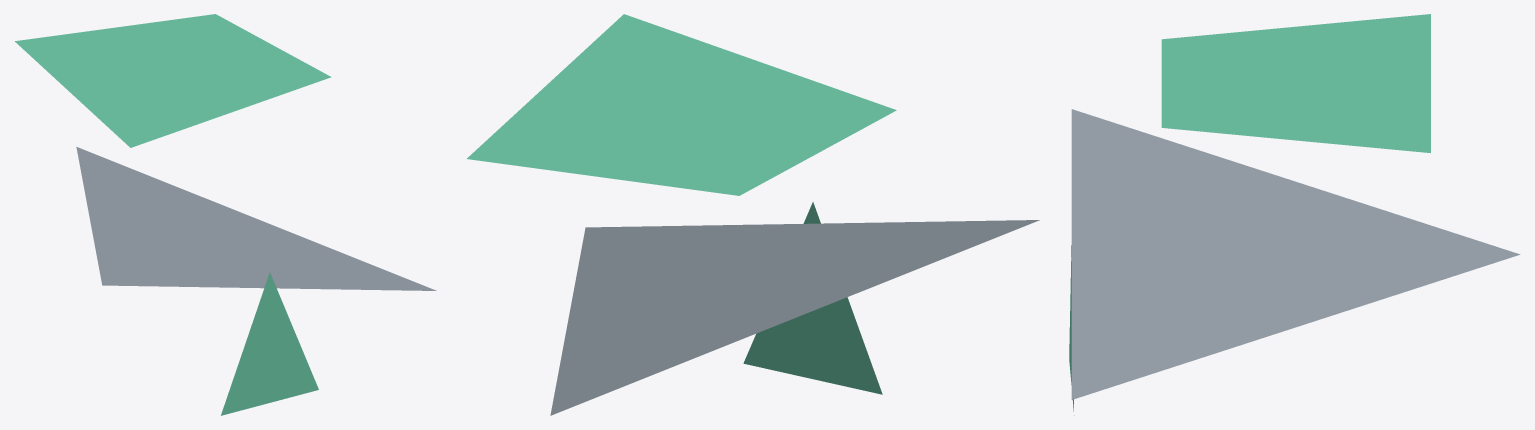
Rendered from CO_TechCenter_LOD2.glb.
The picture shows the model from 3 angles, left to right: view 1: azimuth 30°, elevation 25°; view 2: azimuth 150°, elevation 25°; view 3: azimuth 270°, elevation 25°; orthographic projection. The views are drawn at different scales.
Visible parts, largest first — view 1: EntranceGate; view 2: EntranceGate; view 3: EntranceGate.
Boxes of the visible parts, x1,y1,x2,y2 form: EntranceGate: [15, 14, 436, 415]; EntranceGate: [467, 14, 1039, 415]; EntranceGate: [1069, 14, 1520, 415].
Bounding box in the file's own units: 600 × 467 × 603.
